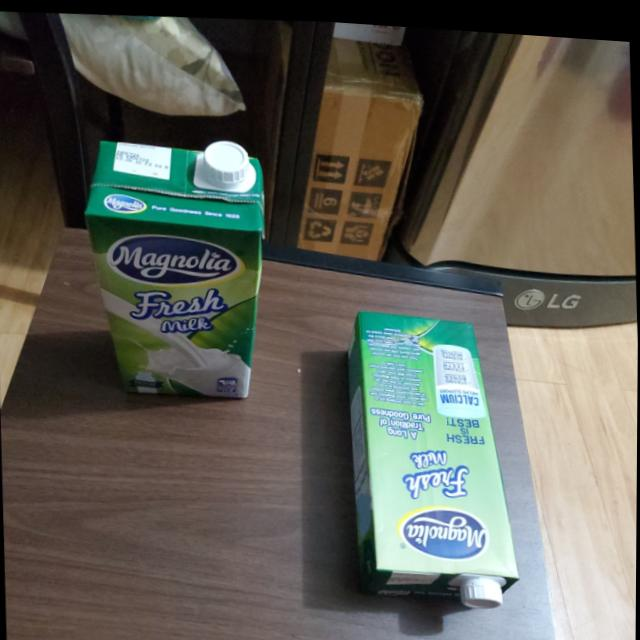milk: (346, 296, 525, 601), (81, 132, 272, 411)
